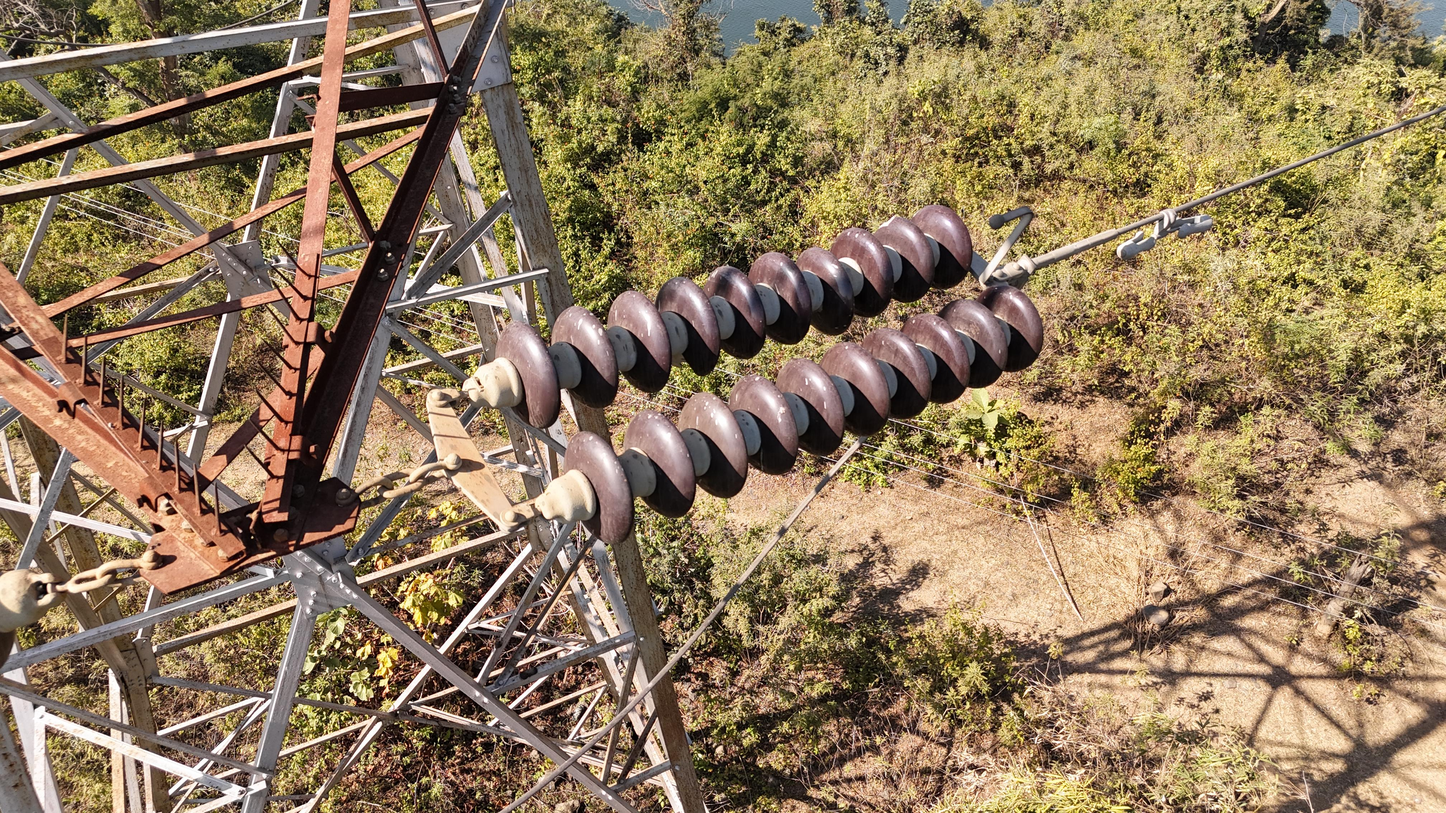broken_insulator: (871, 212, 935, 302)
